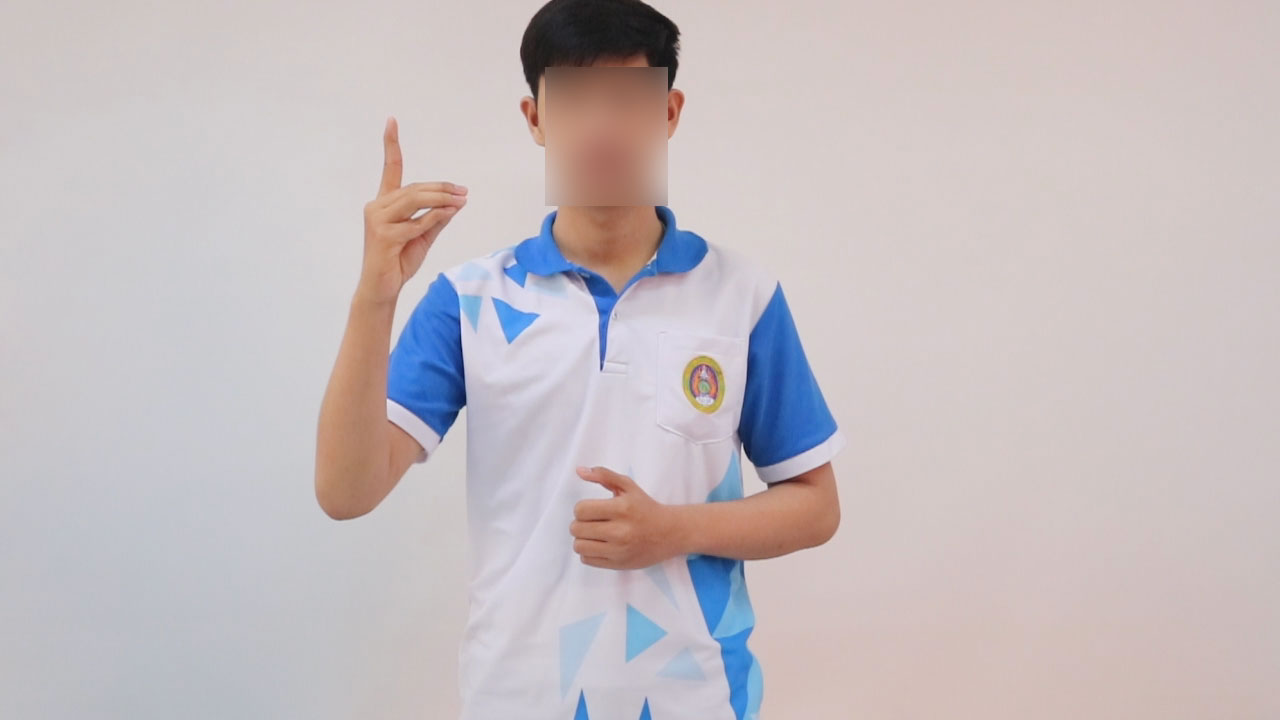dor: (343, 110, 474, 306)
